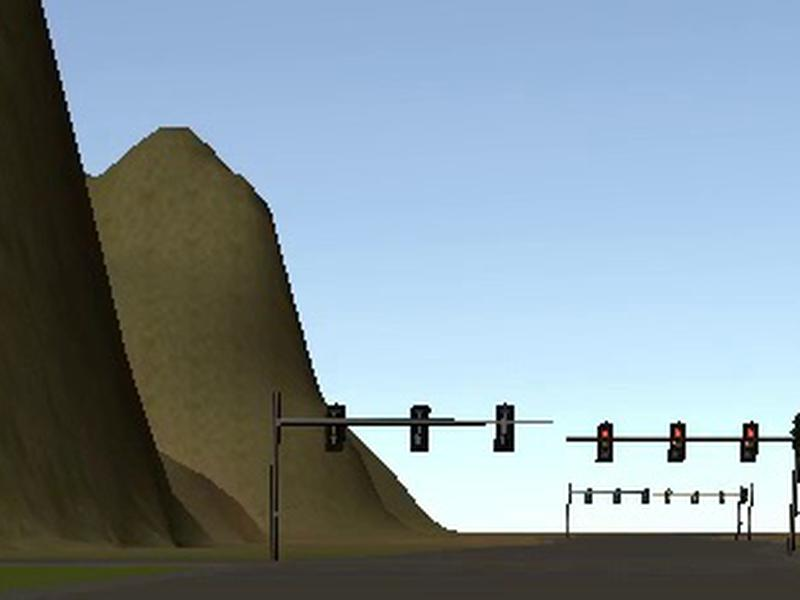Red: (594, 423, 614, 463), (666, 422, 685, 463), (739, 422, 758, 462)
